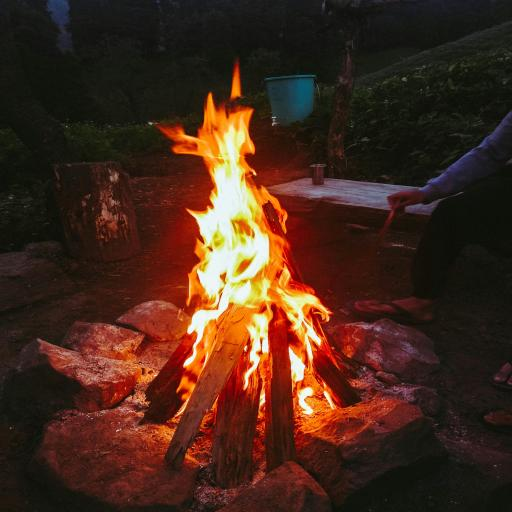campfire: (125, 56, 379, 492)
